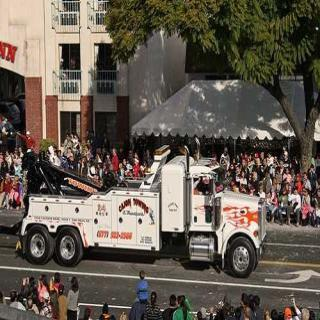Towing_truck: (14, 144, 268, 279)
